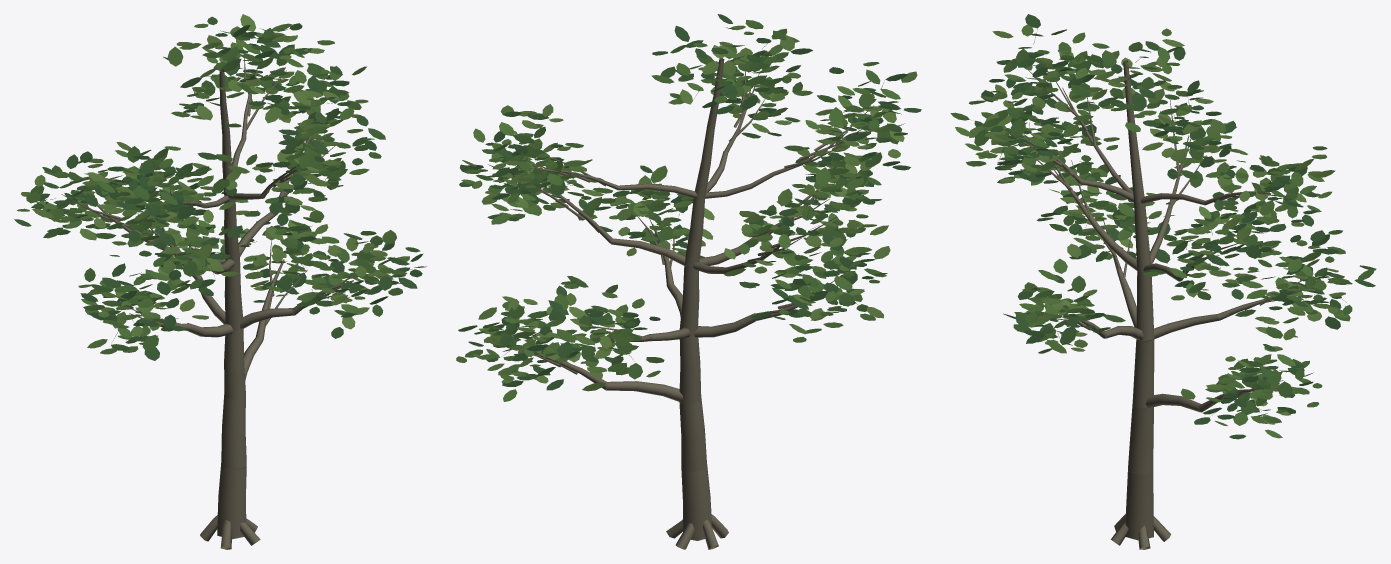
Rendered from Chene_1_Low.fbx.
3 renders of one model, left to right at view 1: azimuth 30°, elevation 25°; view 2: azimuth 150°, elevation 25°; view 3: azimuth 270°, elevation 25°, orthographic. The views are drawn at different scales.
Parts seen in each view (by area): view 1: Chene_1_Low; view 2: Chene_1_Low; view 3: Chene_1_Low.
Boxes of the visible parts, <box> form: Chene_1_Low: <box>14,14,426,549</box>; Chene_1_Low: <box>456,14,921,549</box>; Chene_1_Low: <box>950,14,1376,549</box>.
Bounding box in the file's own units: 628 × 798 × 615.
